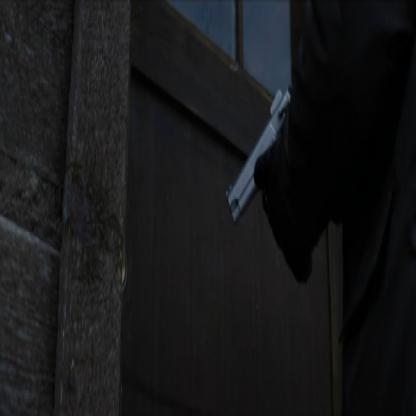Guns: (222, 76, 292, 226)
